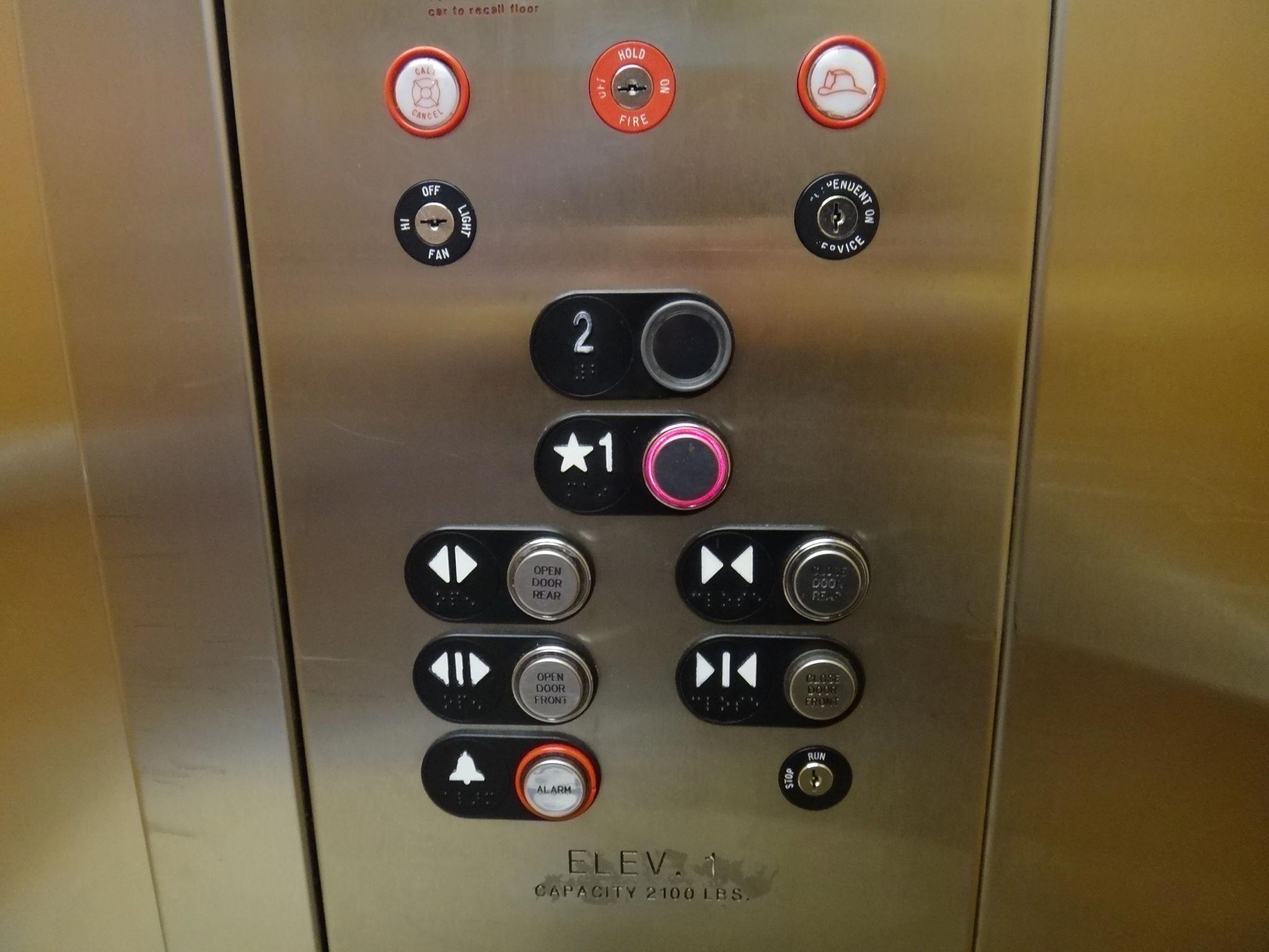2: (522, 285, 744, 403)
alarm: (411, 725, 607, 824)
close: (668, 521, 876, 627), (667, 631, 873, 732)
keyhole: (584, 34, 682, 138), (788, 166, 885, 267), (387, 175, 481, 272), (772, 739, 858, 814)
open: (393, 521, 599, 628), (402, 628, 603, 729)
unknown: (523, 404, 742, 524), (791, 30, 889, 134), (377, 41, 475, 144)
